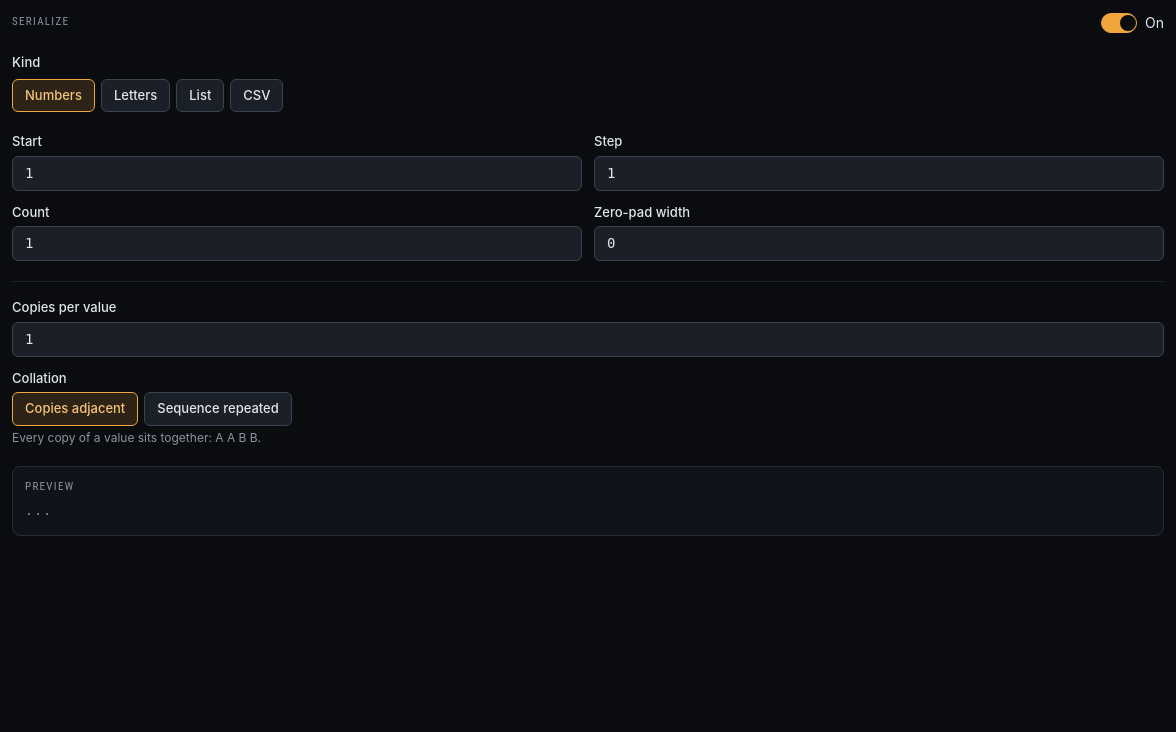
Scenario: SequenceEditor -- bounds enforced with inline errors (task 2.11 brief's own test list) › step 0 shows an inline error
Replace the text in the number field labelled "Step" with "0" at [879, 173], box [594, 156, 1164, 190]
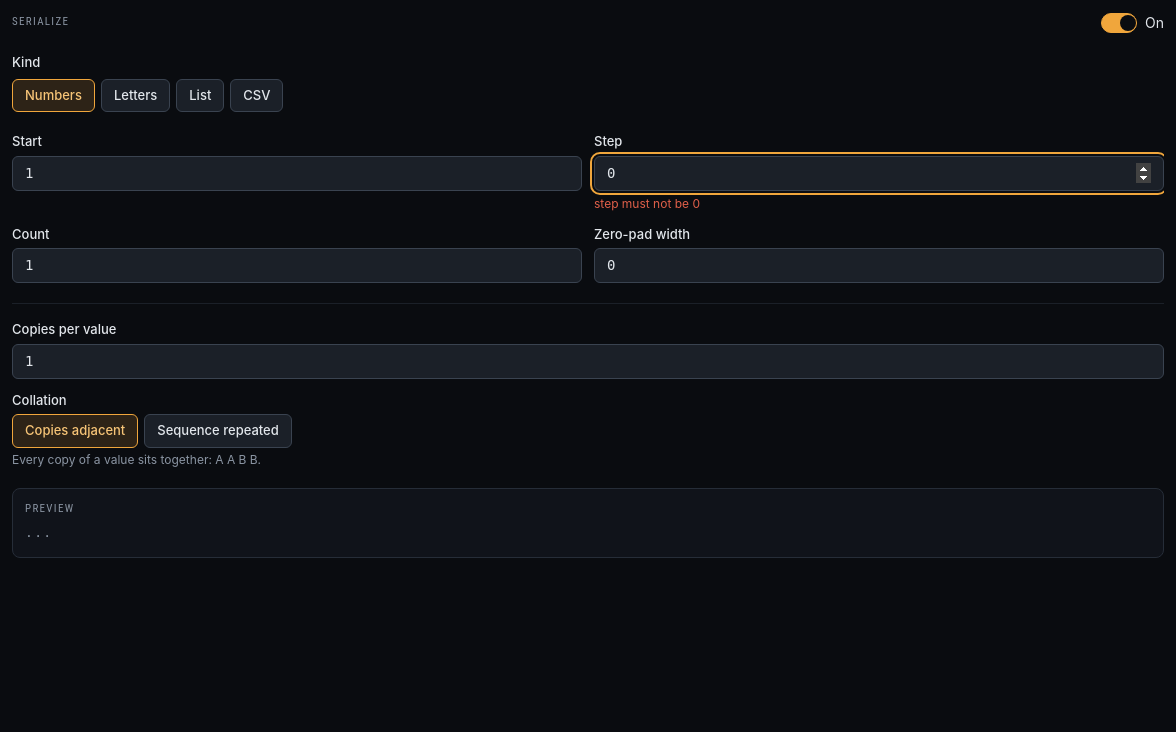
Check: the text "step must not be 0" is shown, box [594, 196, 700, 210]
